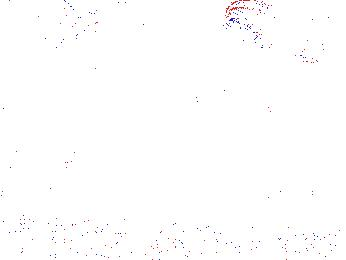moon jellyfish: (58, 1, 129, 68), (14, 1, 81, 53), (224, 1, 282, 56), (291, 16, 346, 66)
